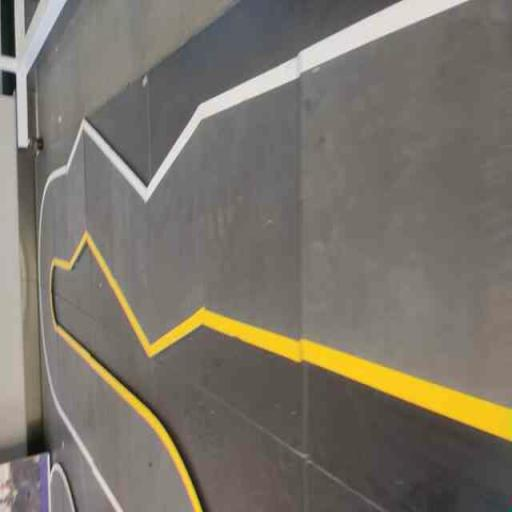straight: (203, 0, 509, 501)
